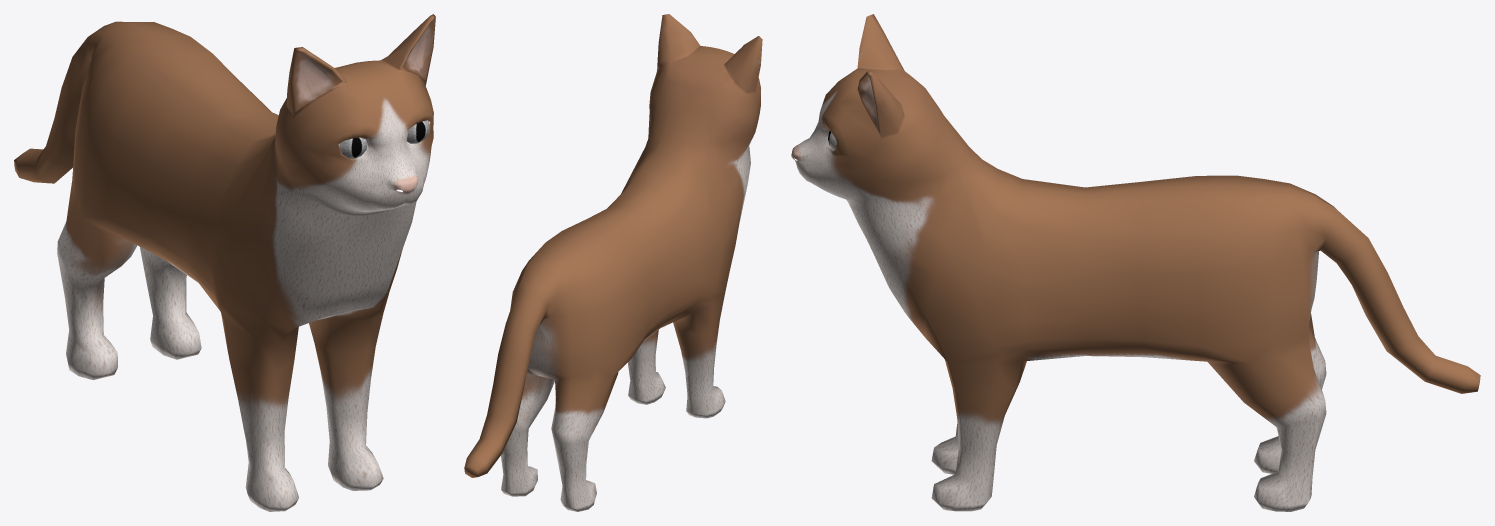
The model's file is cat_BWred.glb.
The picture shows the model from 3 angles, left to right: view 1: azimuth 30°, elevation 25°; view 2: azimuth 150°, elevation 25°; view 3: azimuth 270°, elevation 25°; orthographic projection. The views are drawn at different scales.
Parts seen in each view (by area): view 1: body cat_geo.001, cat_geo eyes.001; view 2: body cat_geo.001; view 3: body cat_geo.001.
Boxes of the visible parts, box(x1,y1,x2,y2) form: body cat_geo.001: box(14, 14, 435, 511); cat_geo eyes.001: box(338, 120, 429, 158); body cat_geo.001: box(464, 14, 762, 511); body cat_geo.001: box(791, 14, 1480, 511).
Bounding box in the file's own units: 1572 × 5053 × 7130.
Materials: 2 (2 with a texture image).
